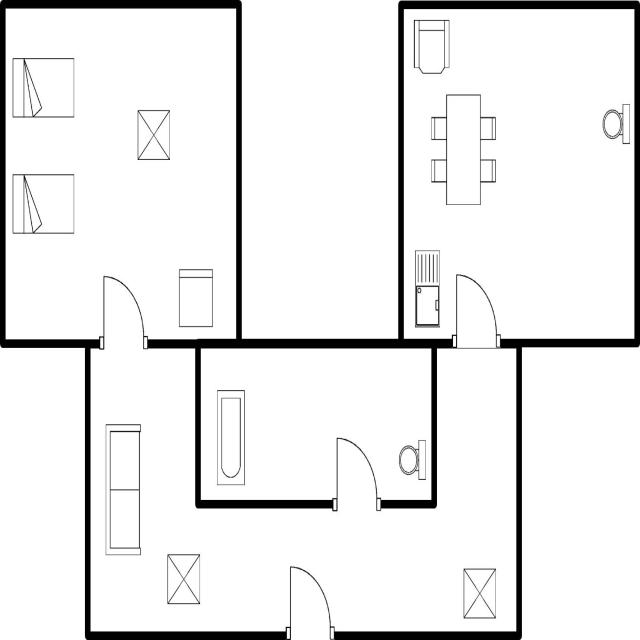armchair: (409, 14, 452, 78)
bed: (8, 52, 78, 122), (9, 169, 77, 239)
coffee_table: (458, 562, 500, 623), (163, 546, 203, 608), (134, 104, 173, 167)
dining_table: (428, 89, 497, 213)
large_sink: (600, 99, 632, 150), (396, 435, 428, 485)
sink: (411, 245, 445, 330)
small_sofa: (101, 419, 144, 562), (174, 264, 218, 332)
tub: (213, 382, 248, 490)
